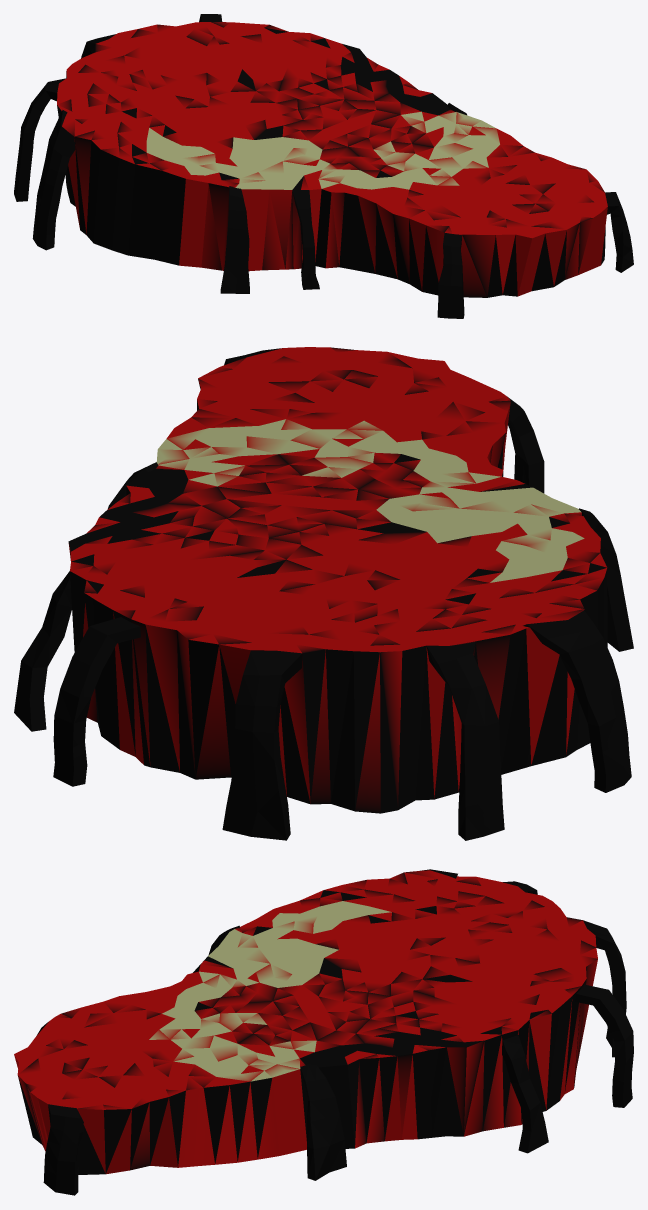
The model's file is 0057_vapenSpa_water.fbx.
3 views of the same model, one above another, from view 1: azimuth 30°, elevation 25°; view 2: azimuth 150°, elevation 25°; view 3: azimuth 270°, elevation 25° (orthographic). The views are drawn at different scales.
Visible parts, largest first — view 1: [water]Spring_Water; view 2: [water]Spring_Water; view 3: [water]Spring_Water.
Boxes of the visible parts, box(x1,y1,x2,y2) form: [water]Spring_Water: box(14, 14, 633, 318); [water]Spring_Water: box(14, 347, 633, 840); [water]Spring_Water: box(14, 869, 633, 1195).
Bounding box in the file's own units: 77.16 × 18.94 × 89.03.
